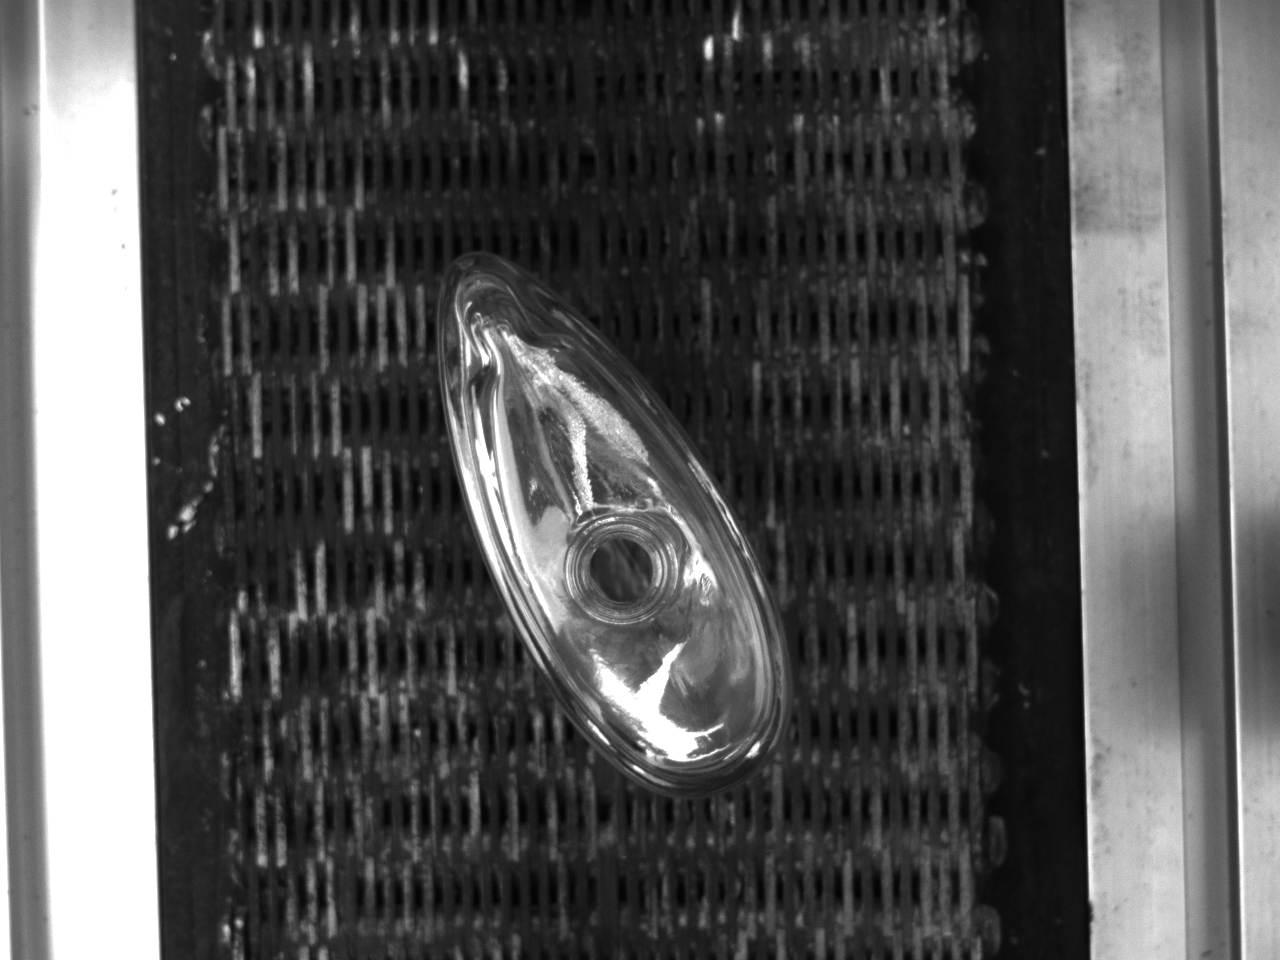bottleneck: (567, 517, 679, 627)
